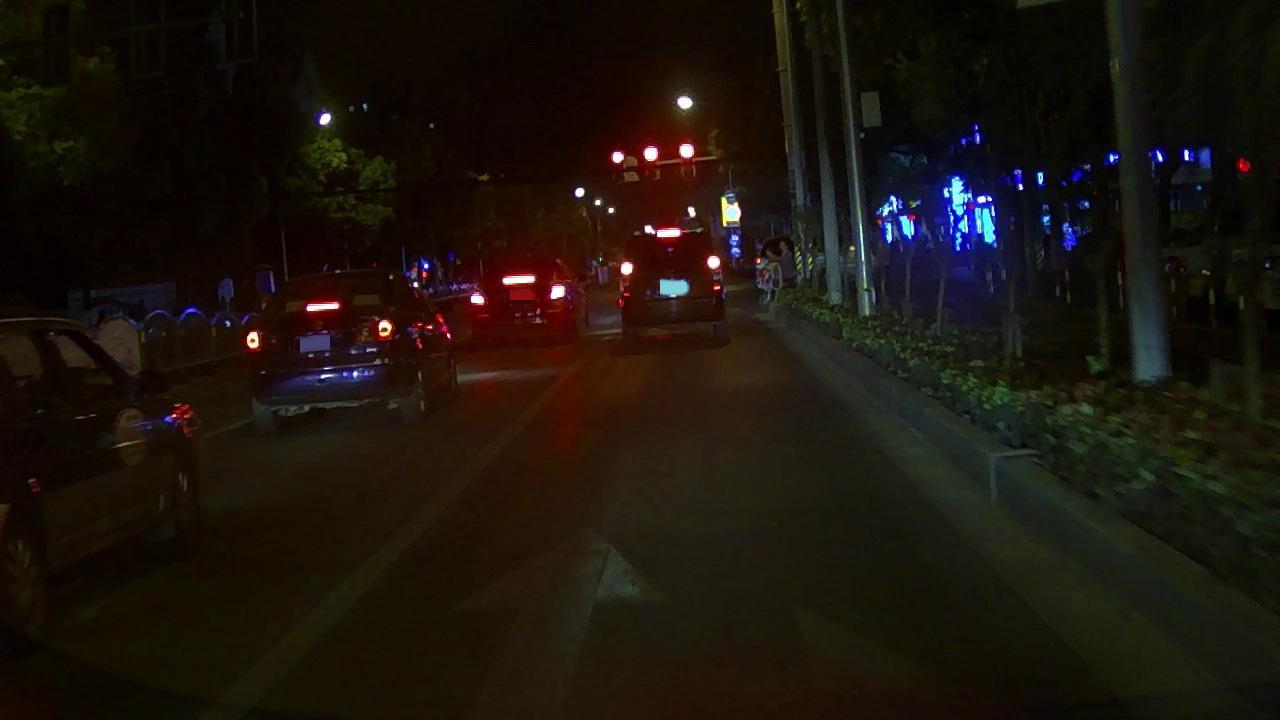traffic_light: (678, 141, 696, 160), (642, 144, 660, 161), (612, 149, 624, 163)
